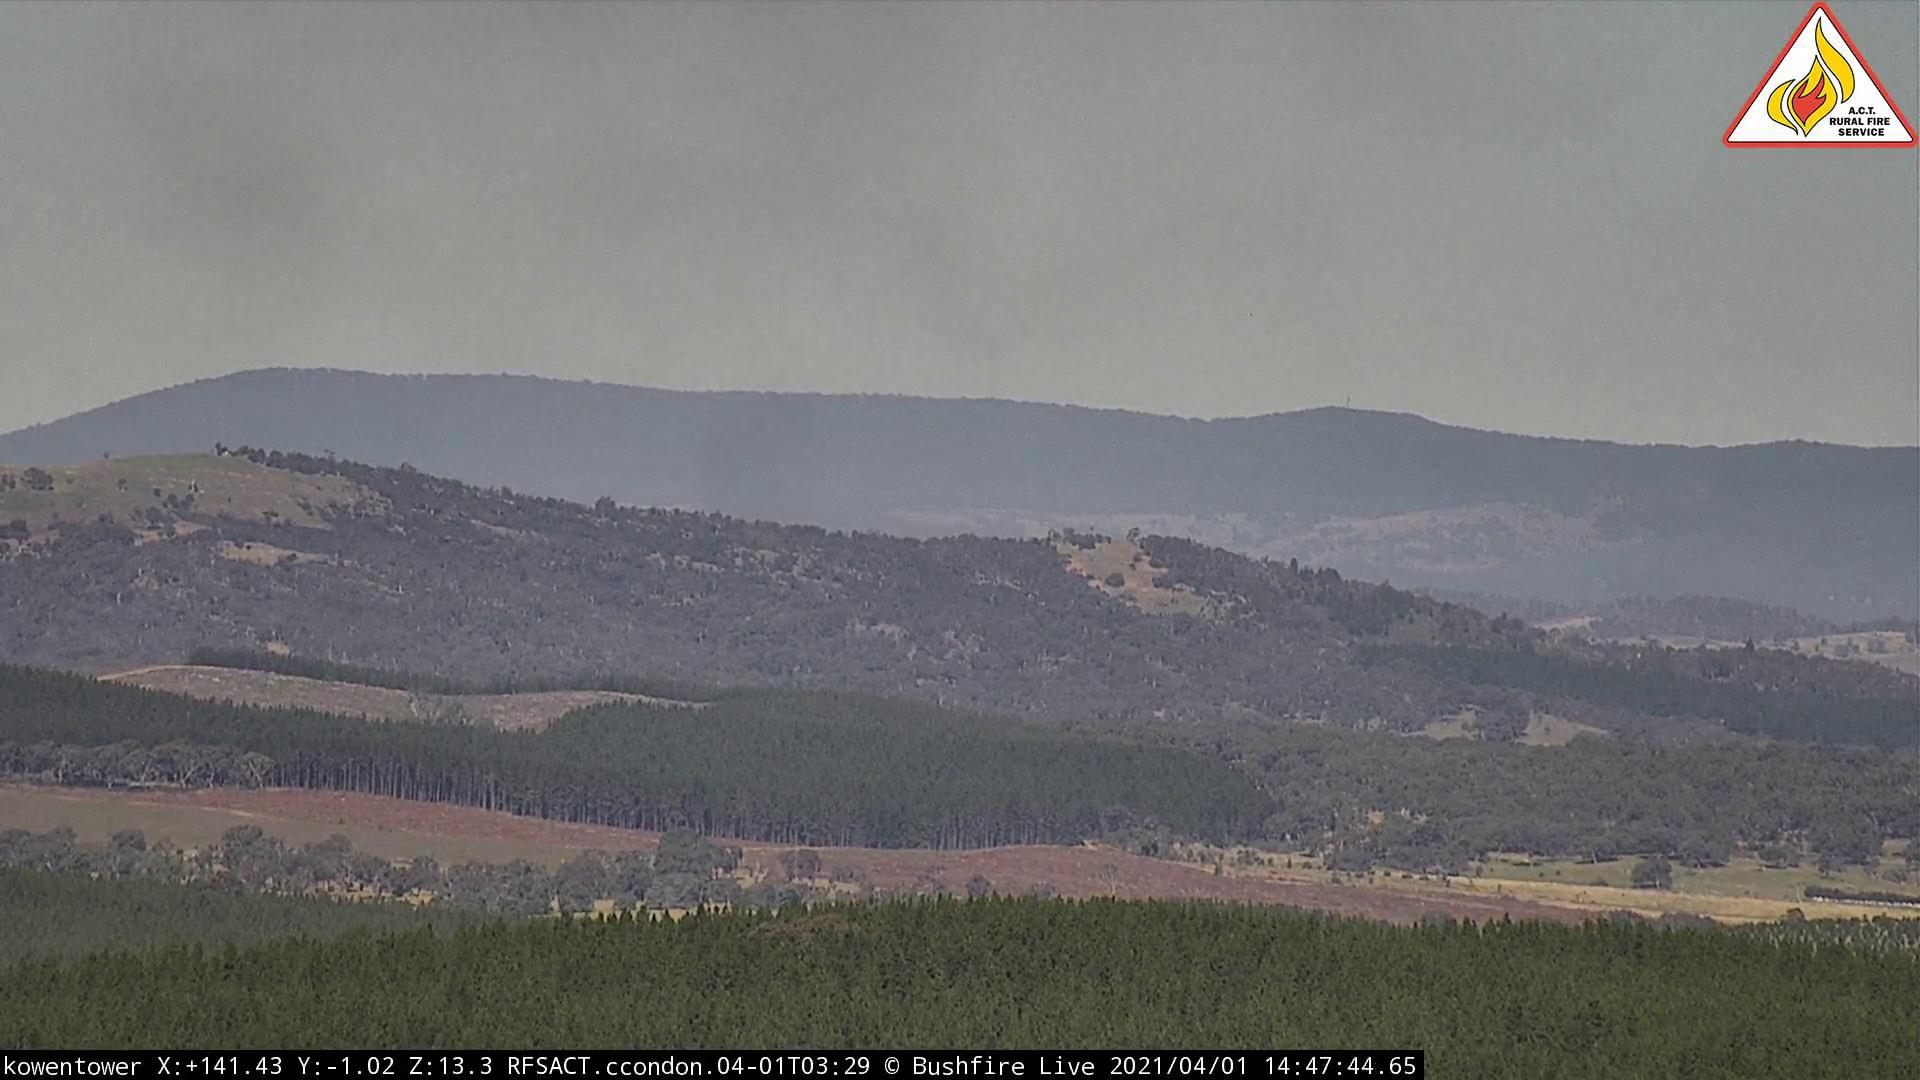instance_salient_object: (13, 3, 1029, 410)
